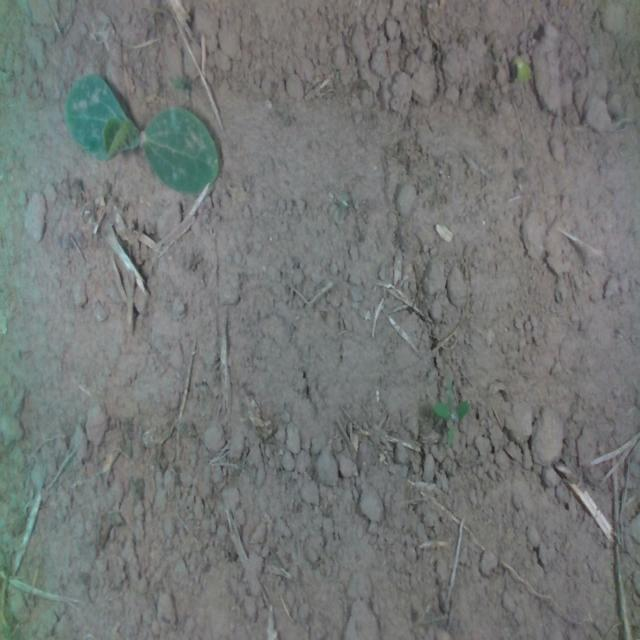crop: (63, 72, 219, 194)
weed: (433, 377, 469, 445)
